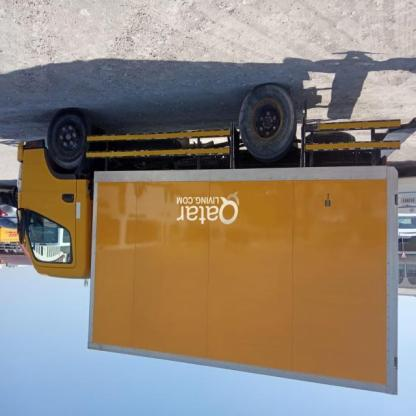truck: (17, 83, 400, 398)
